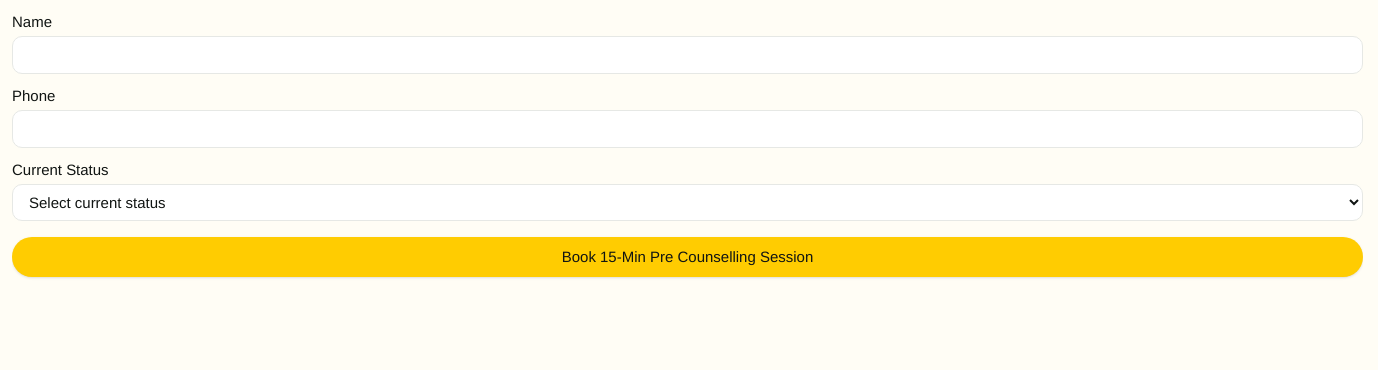
Test: ConsultationForm › shows validation errors when submitted empty
Click the button "Book 15-Min Pre Counselling Session". click: (688, 257)
box: [12, 237, 1363, 277]
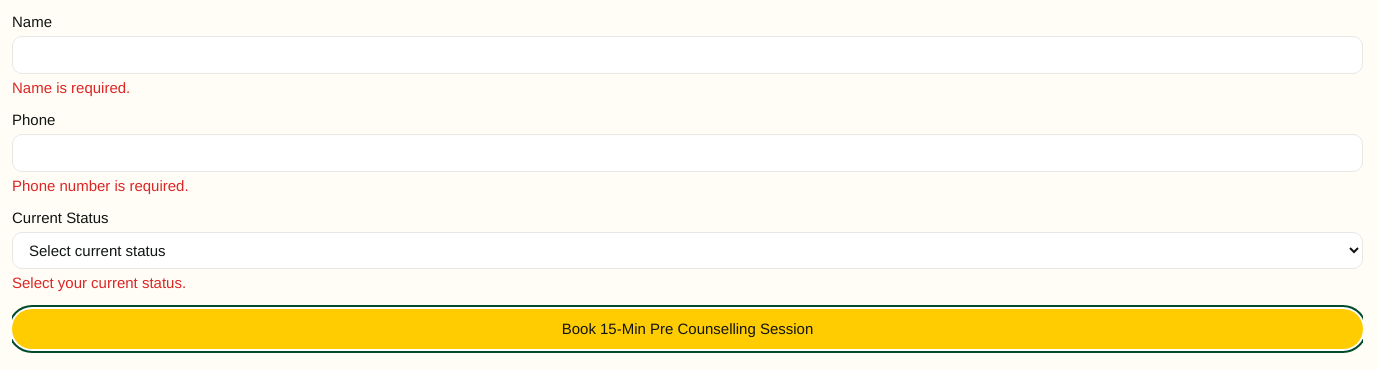
Now the text "Name is required." is shown, box [12, 79, 130, 96]
Now the text "Phone number is required." is shown, box [12, 177, 189, 194]
Now the text "Select your current status." is shown, box [12, 274, 186, 291]
